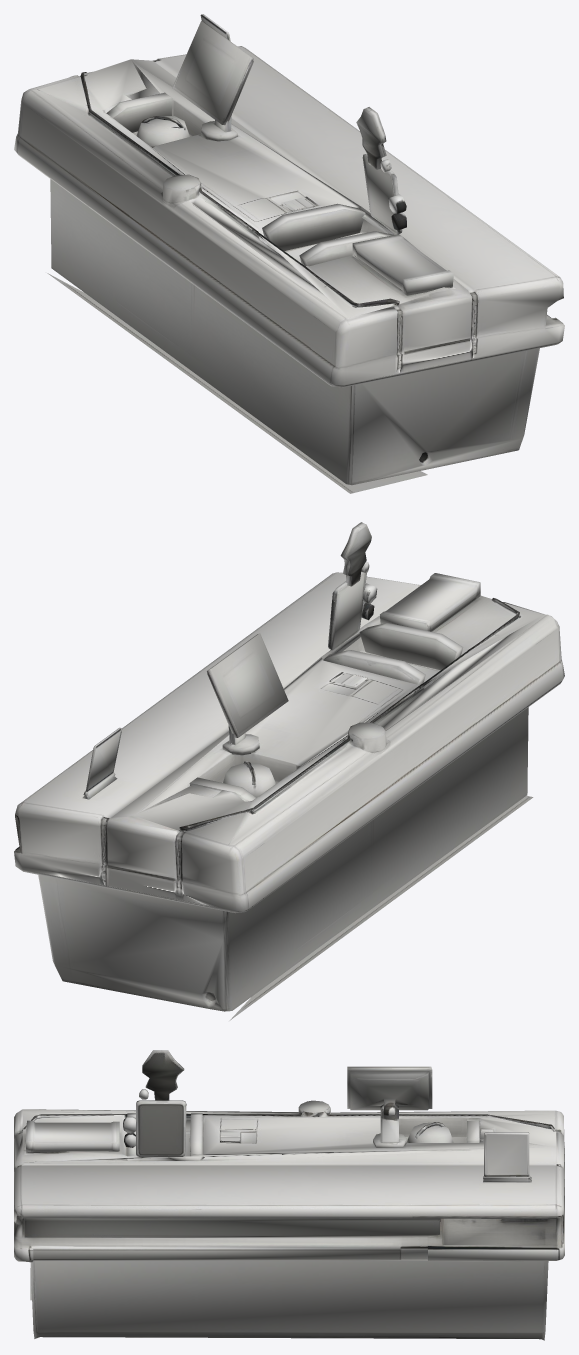
The model's file is checkin-desk.glb.
The picture shows the model from 3 angles, top to bottom: view 1: azimuth 30°, elevation 25°; view 2: azimuth 150°, elevation 25°; view 3: azimuth 270°, elevation 25°; orthographic projection. The views are drawn at different scales.
Parts seen in each view (by area): view 1: tripo_node_e1ffc600-a7ac-4676-b195-294ef1ae9991; view 2: tripo_node_e1ffc600-a7ac-4676-b195-294ef1ae9991; view 3: tripo_node_e1ffc600-a7ac-4676-b195-294ef1ae9991.
Boxes of the visible parts, x1=… form: tripo_node_e1ffc600-a7ac-4676-b195-294ef1ae9991: x1=14, y1=14, x2=564, y2=493; tripo_node_e1ffc600-a7ac-4676-b195-294ef1ae9991: x1=14, y1=522, x2=564, y2=1020; tripo_node_e1ffc600-a7ac-4676-b195-294ef1ae9991: x1=14, y1=1050, x2=564, y2=1340.
Size of the model in its own units: 0.416 by 0.5215 by 0.998.
Materials: 1 (1 with a texture image).
